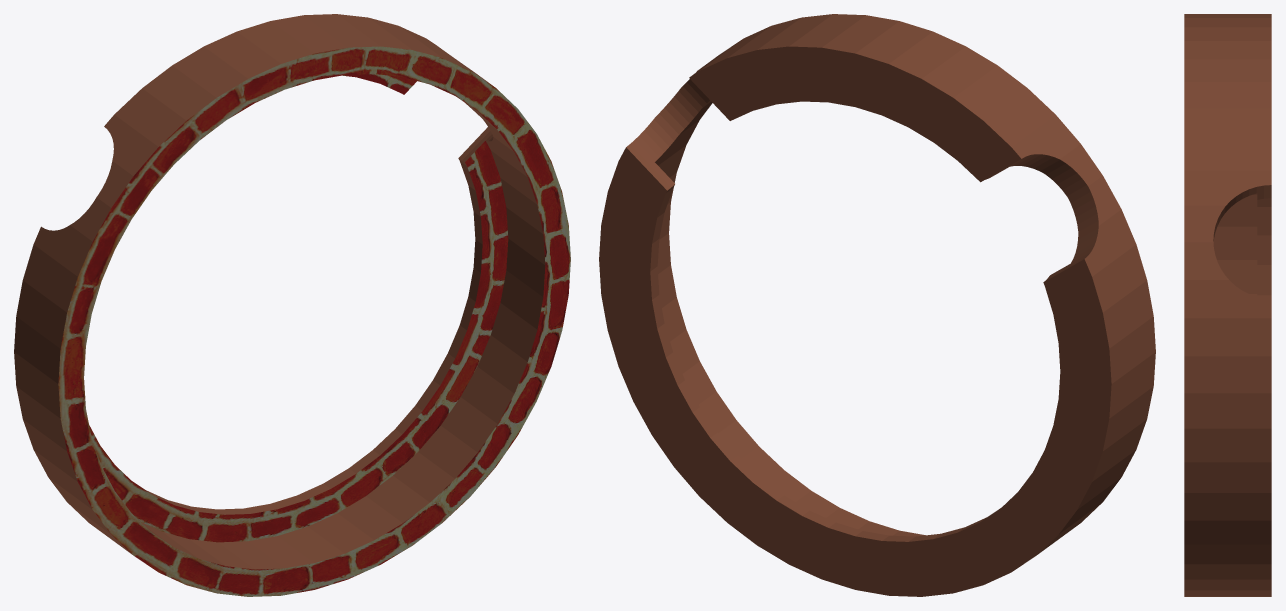
The model's file is pool_019.obj.
3 renders of one model, left to right at view 1: azimuth 30°, elevation 25°; view 2: azimuth 150°, elevation 25°; view 3: azimuth 270°, elevation 25°, orthographic.
Bounding box in the file's own units: 20 × 20 × 3.
